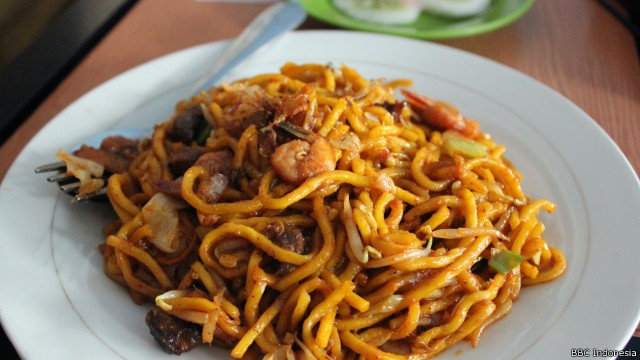mie_aceh: (114, 61, 565, 360)
